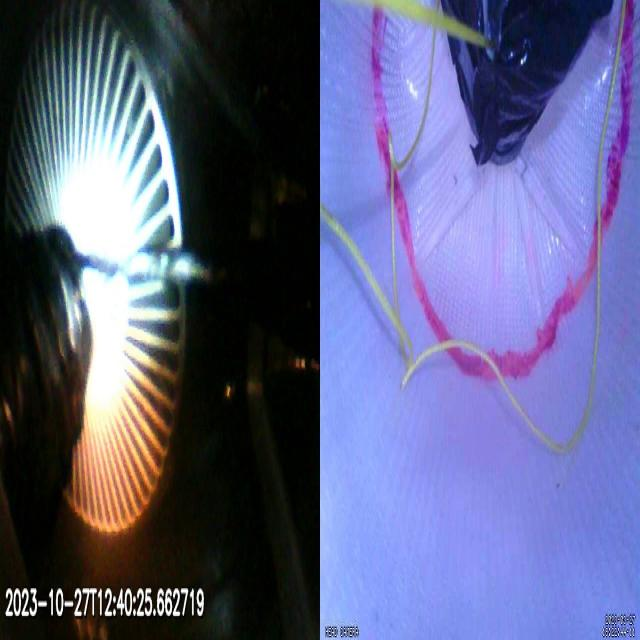red-circle: (371, 0, 636, 383)
